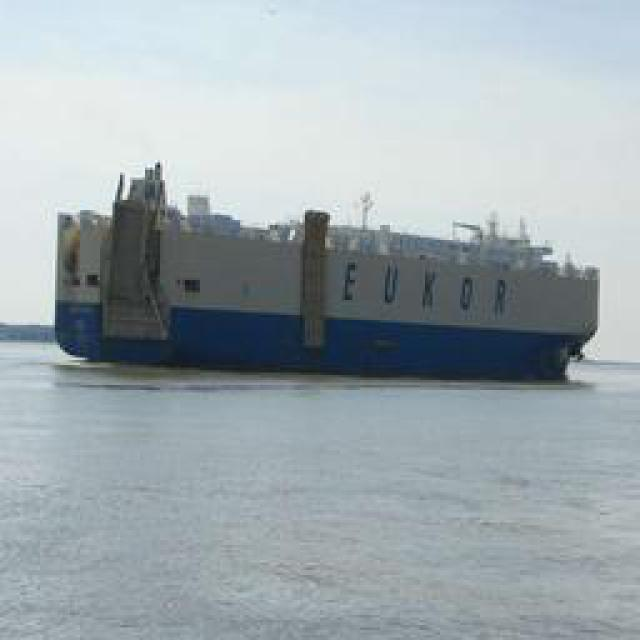Ship: (65, 176, 600, 386)
